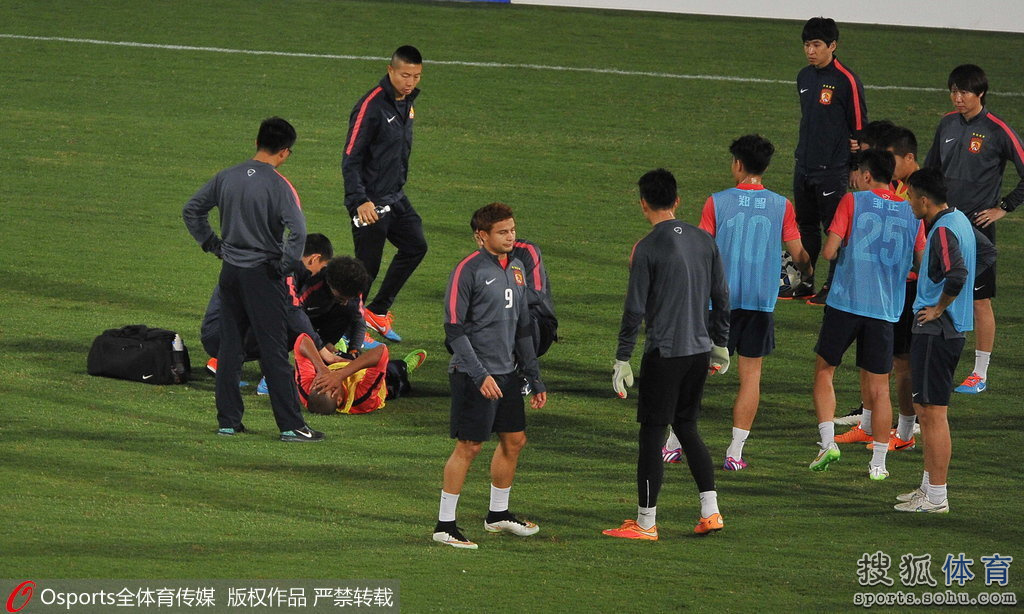fall: (282, 329, 430, 423)
